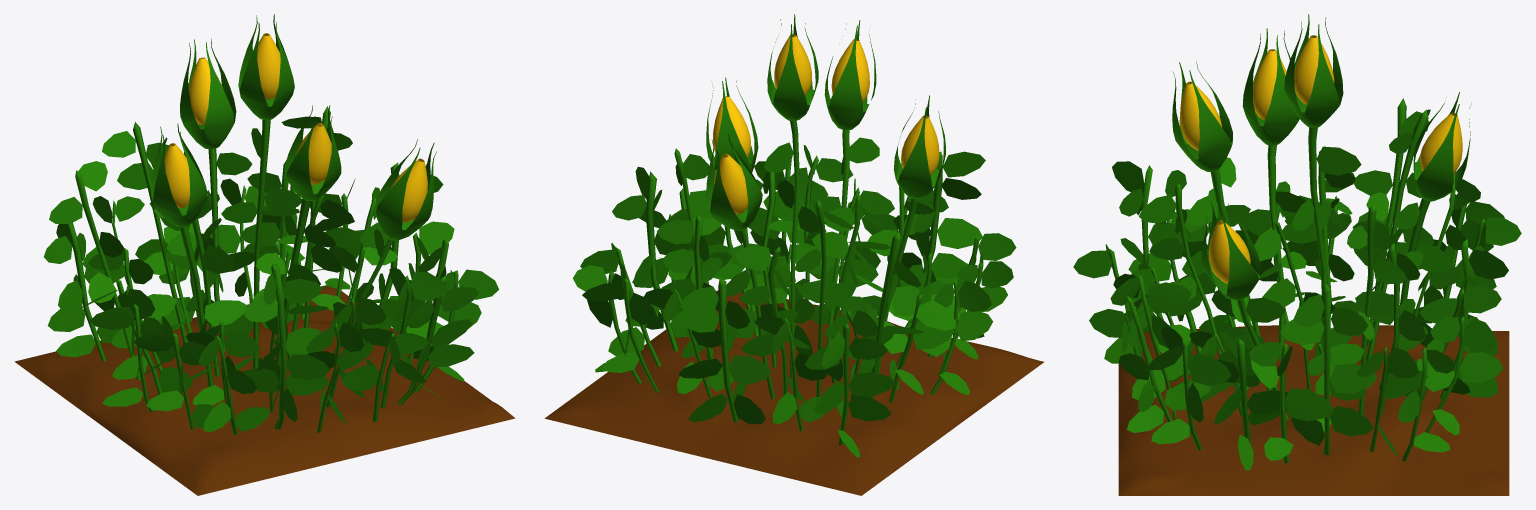
File: yellow-rose-p3-leaf.glb
3 renders of one model, left to right at view 1: azimuth 30°, elevation 25°; view 2: azimuth 150°, elevation 25°; view 3: azimuth 270°, elevation 25°, orthographic. The views are drawn at different scales.
Visible parts, largest first — view 1: 3_nft_out_of_bloom; view 2: 3_nft_out_of_bloom; view 3: 3_nft_out_of_bloom.
Boxes of the visible parts, box(x1,y1,x2,y2) form: 3_nft_out_of_bloom: box(14, 14, 515, 495); 3_nft_out_of_bloom: box(544, 14, 1043, 495); 3_nft_out_of_bloom: box(1073, 14, 1521, 495).
Size of the model in its own units: 0.7993 by 0.7814 by 0.8042.
